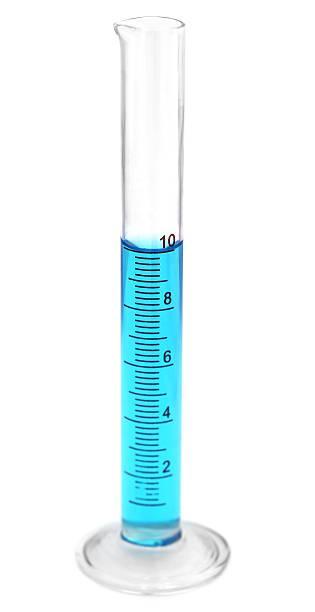Test tube: (92, 26, 240, 588)
